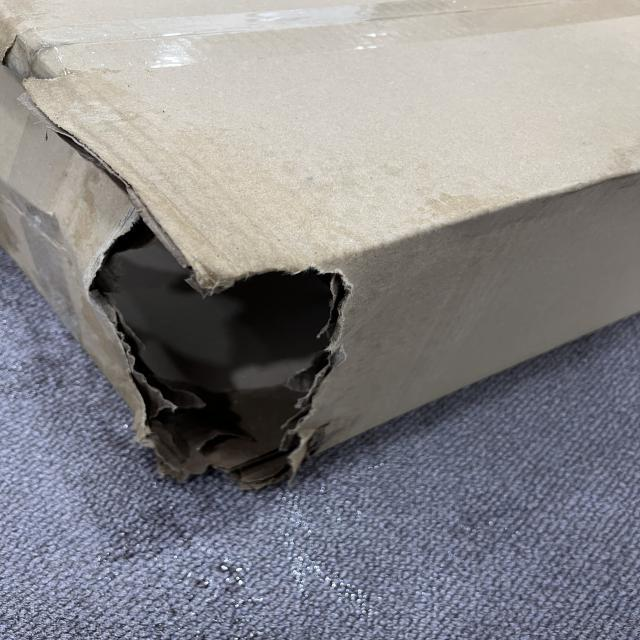hole: (79, 212, 355, 480)
